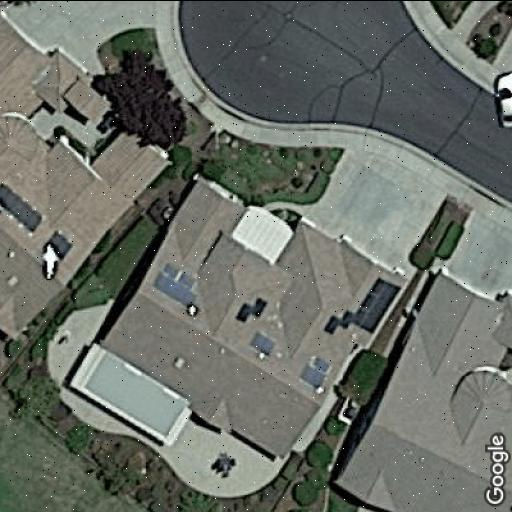solar-panel: (322, 276, 400, 338), (150, 260, 200, 311), (0, 183, 44, 234), (295, 354, 331, 390), (232, 296, 268, 324), (246, 328, 278, 358)
